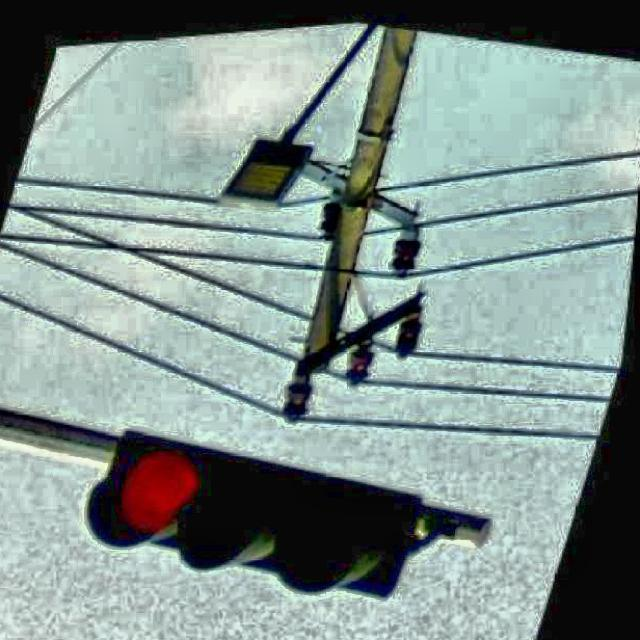red: (85, 440, 409, 574)
